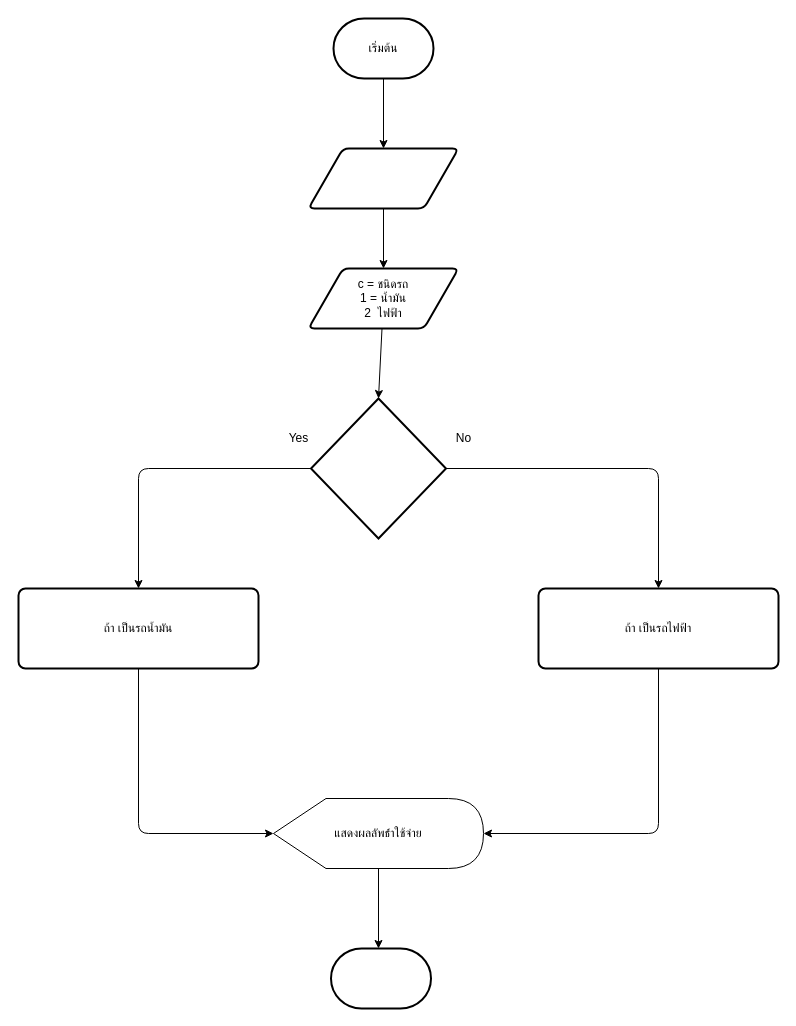
This 796x1026 diagram has some shape labels left out. Here are the shapes that lost their labels. From the top down, the centre of each, then its label:
At pixel 383 178: "k = จำนวนกิโลเมตร".
At pixel 378 468: "if c == 1".
At pixel 381 978: "สิ้นสุด".
